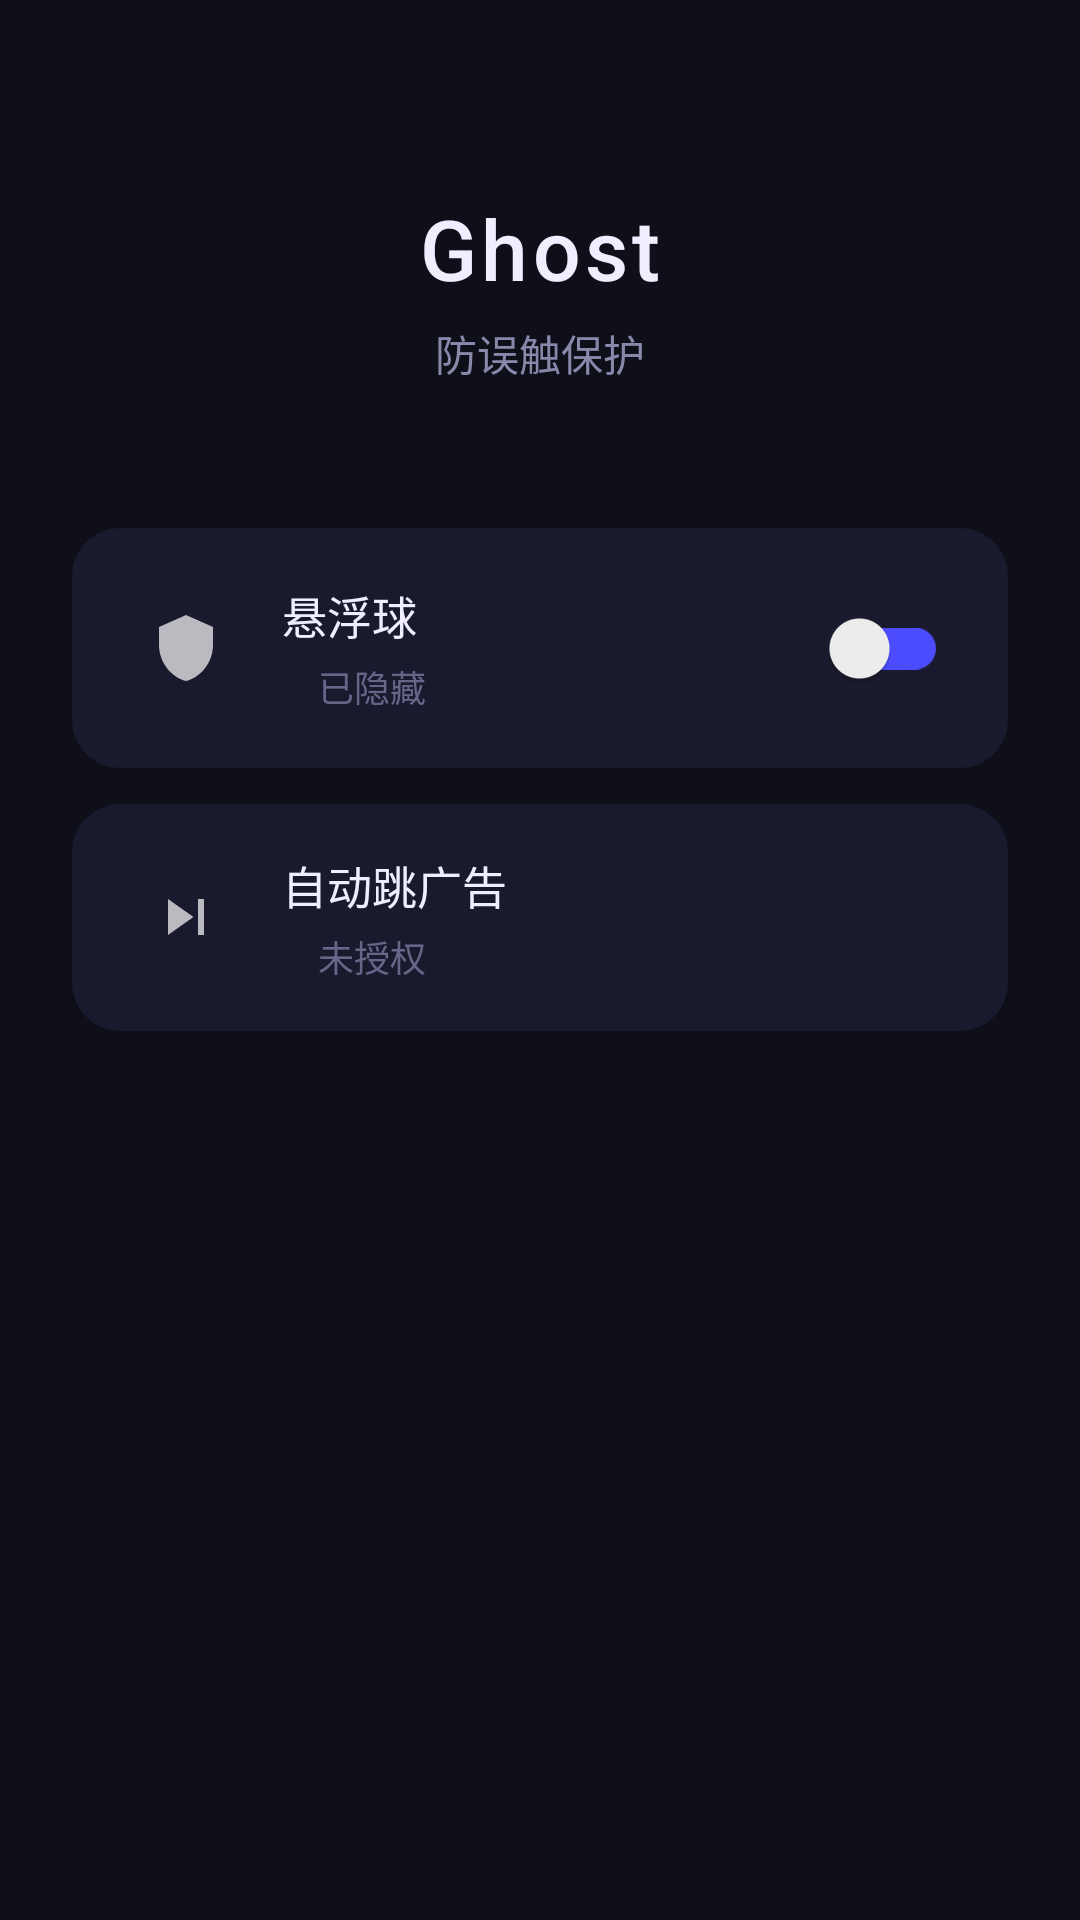

Screen size 1080*1920. Icon name, then its box in pixels as (x1, y1, x2, y2):
ad skip: (168, 899, 204, 935)
shield: (159, 615, 213, 681)
